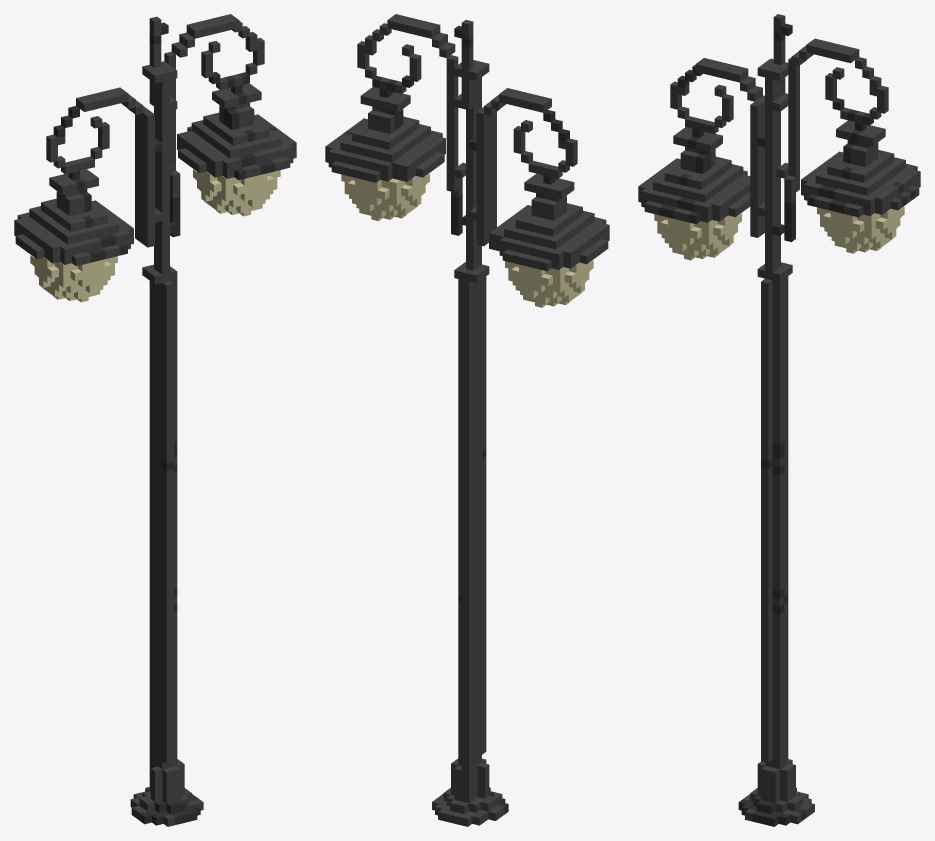
File: drzewko-25.obj
3 views of the same model, side by side, from view 1: azimuth 30°, elevation 25°; view 2: azimuth 150°, elevation 25°; view 3: azimuth 330°, elevation 25° (orthographic).
Size of the model in its own units: 3.5 by 10.2 by 1.3.
Materials: 1 (1 with a texture image).
